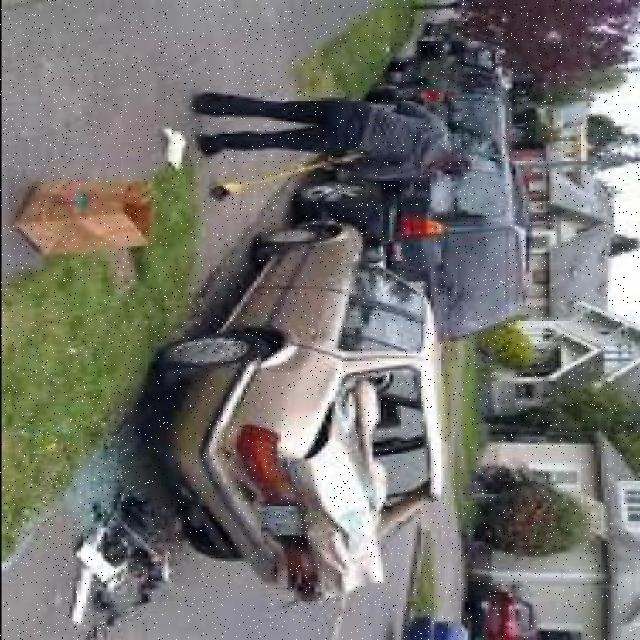damage: (212, 367, 434, 599)
